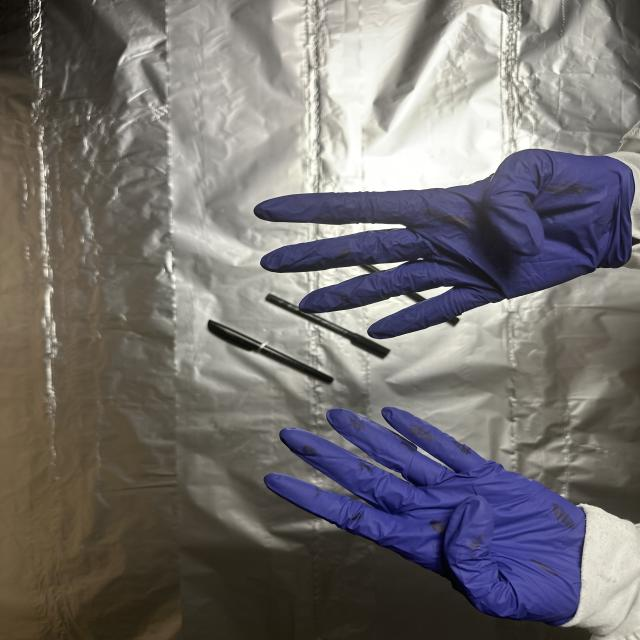gloves_contaminated: (255, 150, 634, 338), (265, 407, 586, 626)
